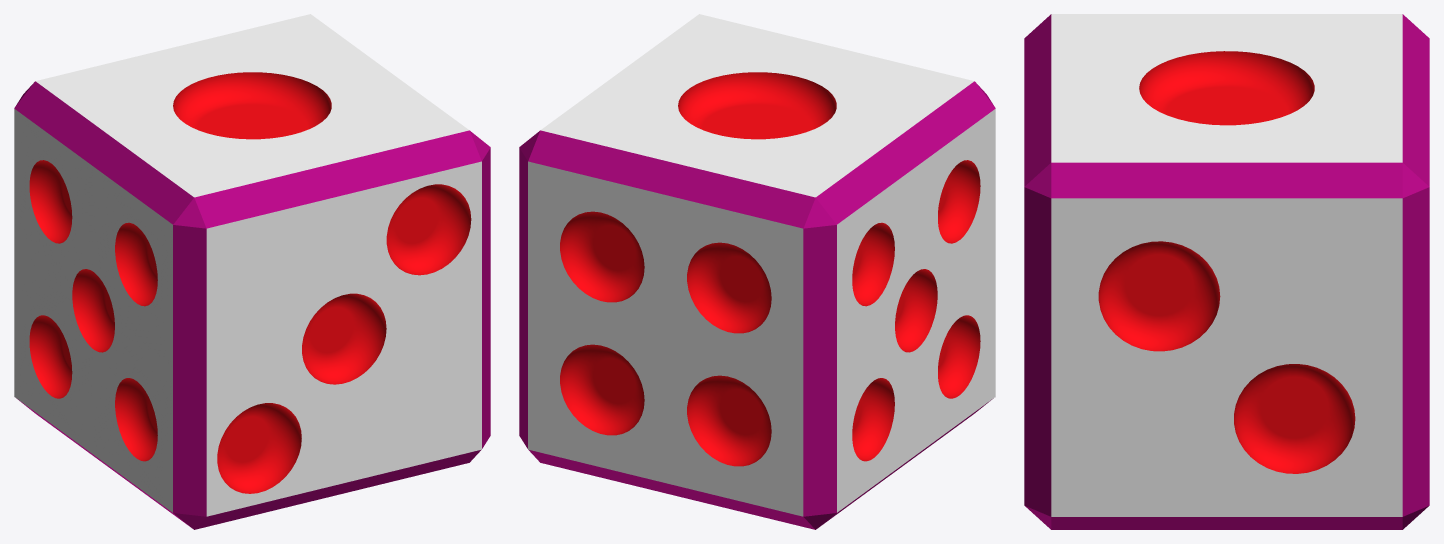
The model's file is saikoro.glb.
3 renders of one model, left to right at view 1: azimuth 30°, elevation 25°; view 2: azimuth 150°, elevation 25°; view 3: azimuth 270°, elevation 25°, orthographic. The views are drawn at different scales.
Visible parts, largest first — view 1: Part1; view 2: Part1; view 3: Part1.
Part boxes in pixels (x1,y1,x2,y2): Part1: [14, 14, 490, 529]; Part1: [519, 14, 995, 529]; Part1: [1024, 14, 1429, 529].
Bounding box in the file's own units: 0.03 × 0.03 × 0.03.
